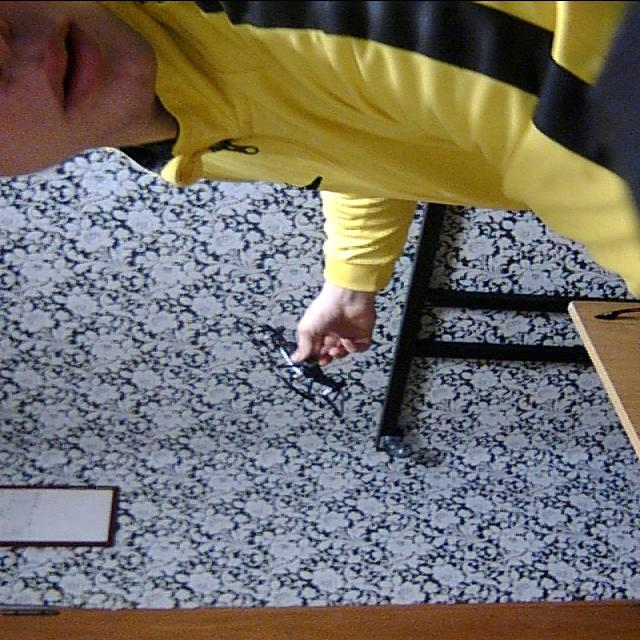drone: (235, 305, 347, 430)
